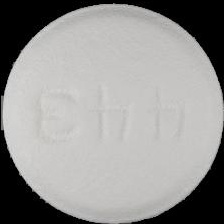51079-145: (0, 0, 224, 224)
